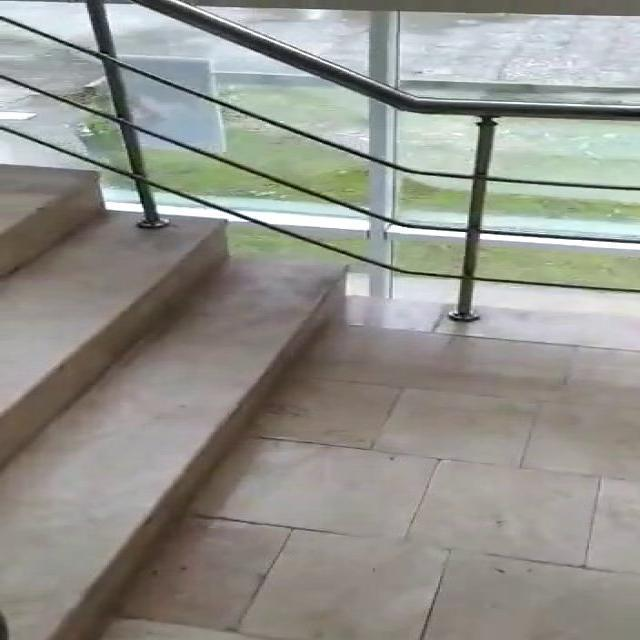stairs: (0, 159, 353, 639)
